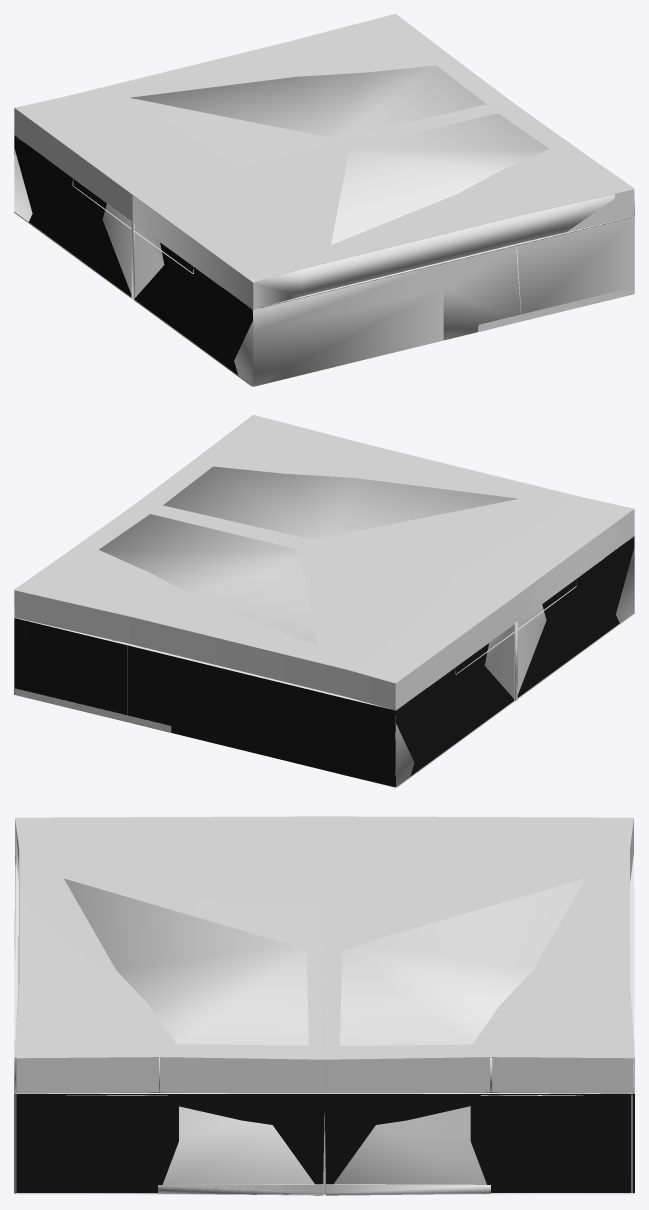
The model's file is sad1234.fbx.
3 renders of one model, top to bottom at view 1: azimuth 30°, elevation 25°; view 2: azimuth 150°, elevation 25°; view 3: azimuth 270°, elevation 25°, orthographic. The views are drawn at different scales.
Visible parts, largest first — view 1: col, steni.001, steni; view 2: steni.001, steni, col; view 3: steni, steni.001, col.
Boxes of the visible parts, x1,y1,x2,y2 form: col: [14, 65, 634, 386]; steni.001: [14, 14, 513, 298]; steni: [132, 103, 634, 386]; steni.001: [14, 504, 516, 787]; steni: [135, 415, 634, 699]; col: [14, 466, 634, 787]; steni: [14, 816, 328, 1195]; steni.001: [320, 816, 634, 1194]; col: [14, 818, 633, 1195].
Size of the model in its own units: 28089 by 7450 by 30334.
74 materials, 51 textured.
